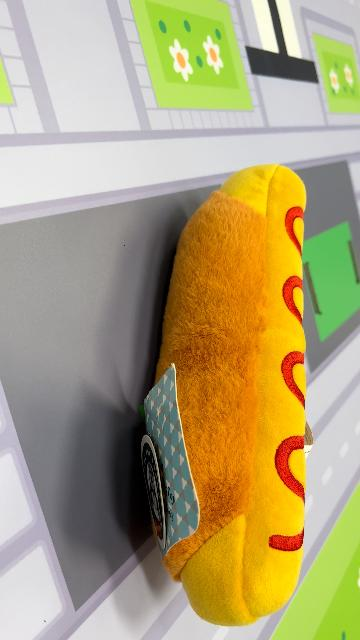hotdog: (140, 162, 310, 628)
